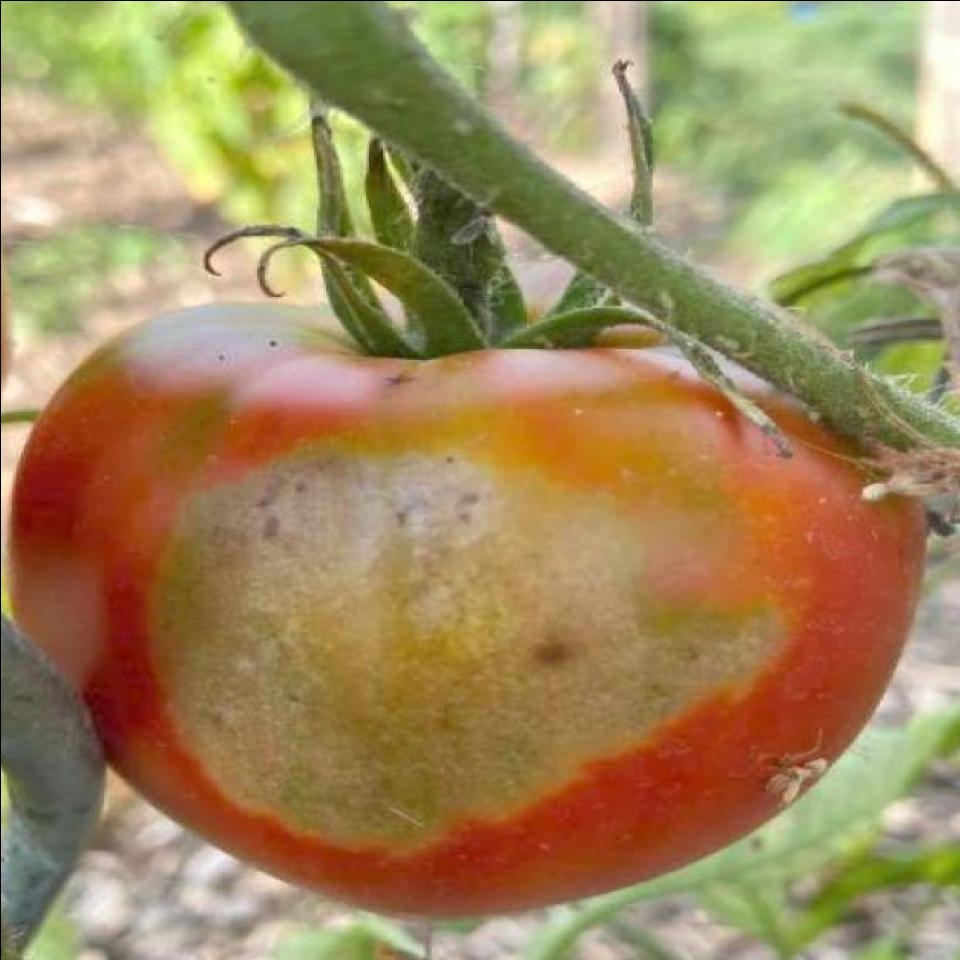Sunscald: (92, 396, 802, 843)
